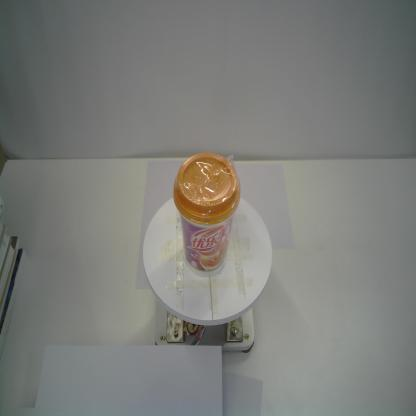Instant Drink: (172, 150, 240, 278)
